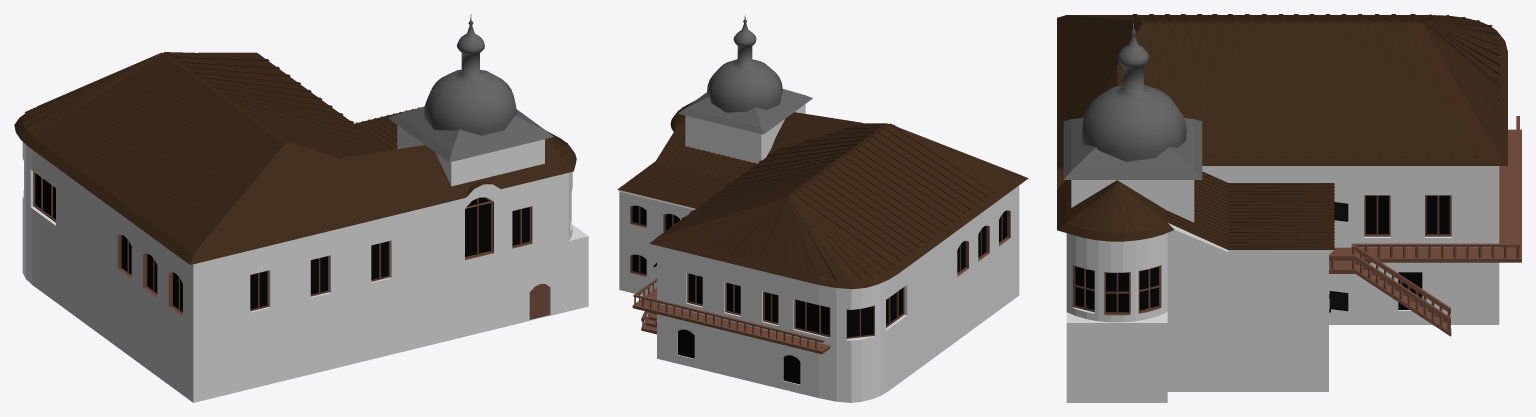
Rendered from nikolaratnuy.gltf.
3 renders of one model, left to right at view 1: azimuth 30°, elevation 25°; view 2: azimuth 150°, elevation 25°; view 3: azimuth 270°, elevation 25°, orthographic. The views are drawn at different scales.
Parts seen in each view (by area): view 1: Main, Cube, Cube.005, Sphere, Cube.016; view 2: Main, Cube, Cube.005, Sphere, Cube.016, Cube.019, Cube.017, Cube.021, Cube.022; view 3: Main, Cube, Cube.005, Sphere, Cube.016, Cube.019, Cube.017, Cube.021, Cube.018.
Part boxes in pixels (x1,y1,x2,y2): Main: (14,52,456,402); Cube: (339,131,588,340); Cube.005: (388,106,554,186); Sphere: (424,14,516,135); Cube.016: (354,106,424,150); Main: (649,123,1028,402); Cube: (618,101,863,295); Cube.005: (678,89,812,163); Sphere: (707,14,782,112); Cube.016: (617,161,733,208); Cube.019: (632,286,830,354); Cube.017: (656,126,775,180); Cube.021: (633,278,824,342); Cube.022: (642,299,816,348); Main: (1057,14,1507,324); Cube: (1057,64,1333,402); Cube.005: (1063,117,1202,222); Sphere: (1082,22,1186,161); Cube.016: (1228,183,1334,249); Cube.019: (1329,129,1521,336); Cube.017: (1167,171,1228,249); Cube.021: (1351,116,1519,257); Cube.018: (1352,249,1450,331).
Size of the model in its own units: 30.16 by 20.82 by 26.43.
